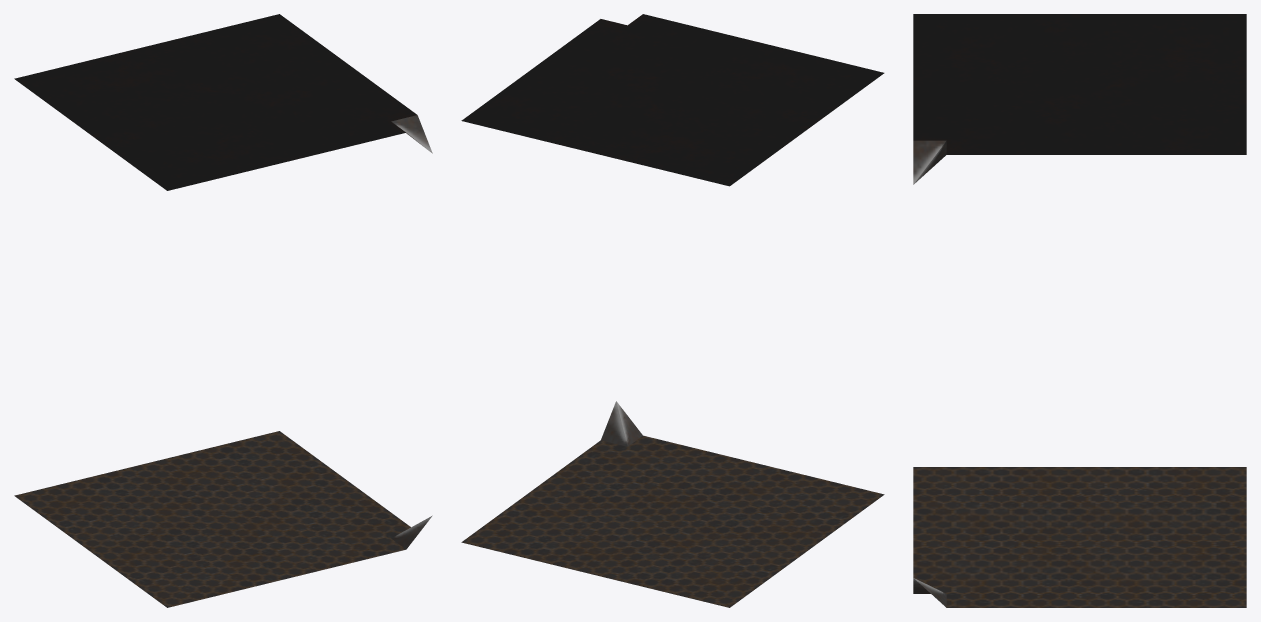
The model's file is RoomInnerCorner.fbx.
The picture shows the model from 3 angles, left to right: view 1: azimuth 30°, elevation 25°; view 2: azimuth 150°, elevation 25°; view 3: azimuth 270°, elevation 25°; orthographic projection. The views are drawn at different scales.
Parts seen in each view (by area): view 1: RoomInnerCorner; view 2: RoomInnerCorner; view 3: RoomInnerCorner.
Boxes of the visible parts, x1,y1,x2,y2 form: RoomInnerCorner: [14, 14, 432, 607]; RoomInnerCorner: [461, 14, 884, 607]; RoomInnerCorner: [913, 14, 1246, 607].
Size of the model in its own units: 200 by 300 by 200.
Materials: 1 (1 with a texture image).
